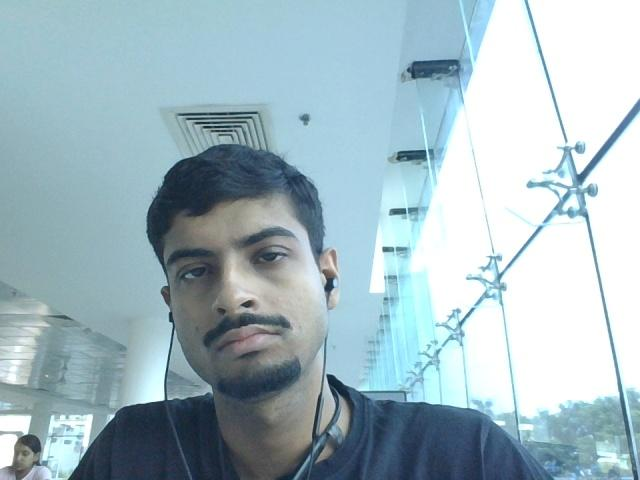confident: (138, 129, 371, 427)
